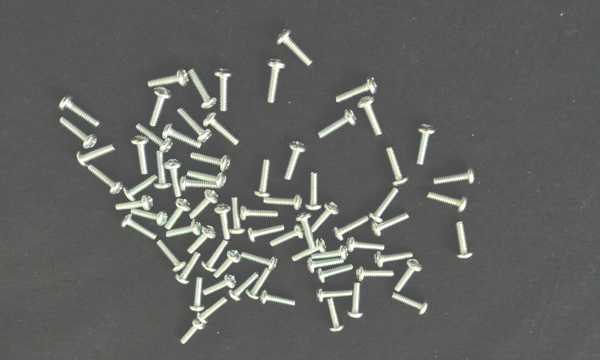shortscrew: (275, 28, 313, 67), (58, 93, 101, 127), (203, 110, 240, 146), (177, 107, 212, 143), (59, 117, 98, 149), (188, 68, 218, 109), (318, 108, 358, 138), (335, 76, 378, 103), (369, 186, 400, 223), (135, 123, 173, 153), (87, 165, 124, 195), (357, 95, 384, 136), (122, 173, 159, 202), (385, 146, 411, 187), (156, 240, 187, 274), (120, 214, 158, 241), (76, 144, 117, 168), (124, 173, 159, 201), (163, 123, 202, 148), (333, 214, 369, 241), (427, 189, 469, 212), (189, 190, 220, 221), (371, 212, 411, 236), (394, 260, 423, 293), (202, 240, 230, 274), (245, 267, 272, 302), (434, 164, 476, 186), (311, 201, 339, 234), (284, 140, 307, 180), (165, 196, 192, 230), (187, 224, 217, 254), (292, 238, 328, 263), (197, 296, 229, 324), (149, 87, 171, 127), (229, 273, 259, 302), (190, 150, 231, 171), (267, 58, 286, 103), (214, 67, 233, 112), (392, 293, 429, 316), (175, 253, 201, 285), (187, 168, 228, 188), (270, 225, 305, 248), (164, 158, 184, 198), (417, 123, 436, 165), (213, 250, 241, 278), (132, 135, 152, 174), (148, 68, 188, 87), (130, 208, 168, 227), (296, 212, 316, 248), (455, 220, 473, 259), (356, 265, 395, 283), (264, 193, 303, 211), (316, 265, 355, 283), (180, 176, 223, 192), (326, 297, 345, 333), (214, 202, 232, 240), (247, 225, 285, 243), (239, 203, 279, 220), (254, 159, 271, 199), (180, 319, 206, 345), (306, 170, 322, 212), (241, 252, 278, 270), (166, 220, 203, 238), (154, 151, 171, 190), (306, 257, 345, 274), (375, 252, 415, 268), (346, 237, 386, 253), (260, 290, 297, 307), (228, 197, 245, 234), (348, 282, 364, 320), (316, 287, 354, 303), (115, 196, 155, 211), (311, 246, 349, 261)
